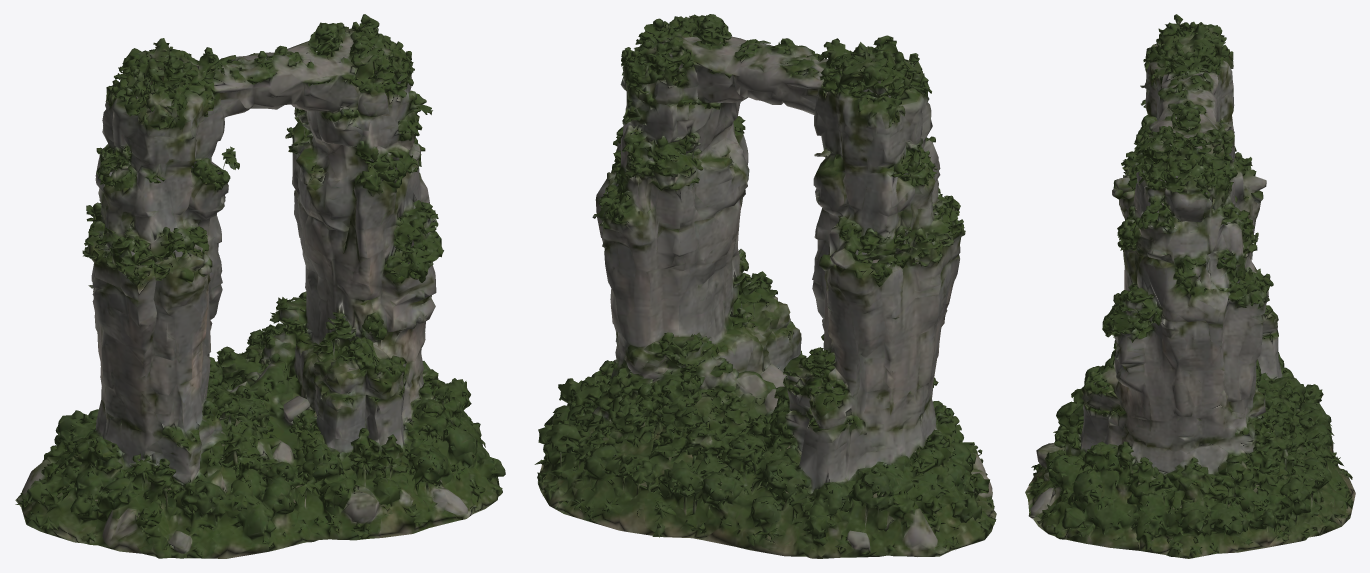
The model's file is av_arch_mid.glb.
3 renders of one model, left to right at view 1: azimuth 30°, elevation 25°; view 2: azimuth 150°, elevation 25°; view 3: azimuth 270°, elevation 25°, orthographic. The views are drawn at different scales.
Visible parts, largest first — view 1: av_arch; view 2: av_arch; view 3: av_arch.
Part boxes in pixels (x1,y1,x2,y2): av_arch: (15,14,505,558); av_arch: (534,14,996,558); av_arch: (1025,14,1355,558).
Size of the model in its own units: 1.89 by 1.9 by 1.41.
Materials: 1 (1 with a texture image).
